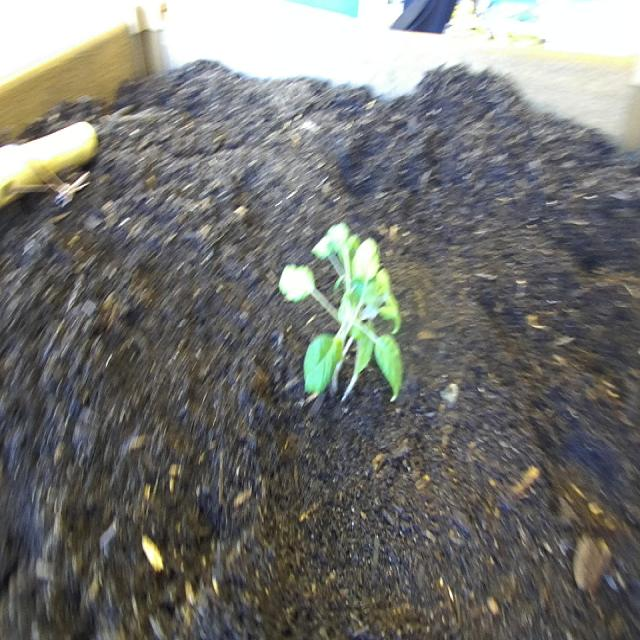Healthy: (274, 200, 411, 427)
